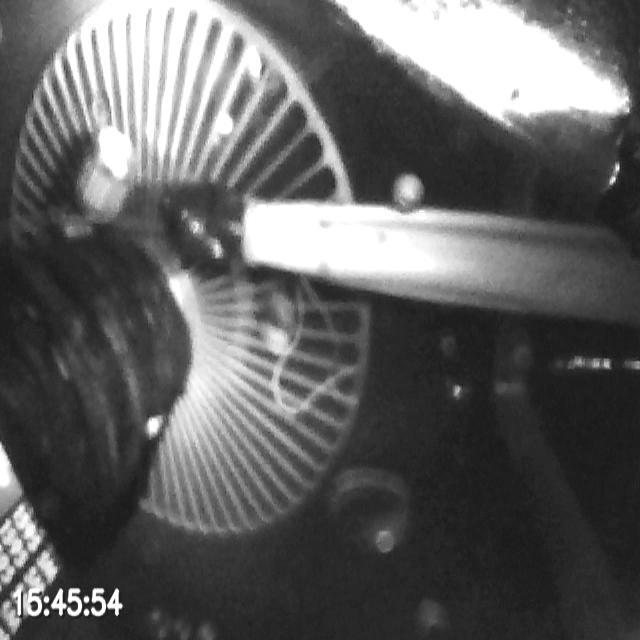head: (54, 127, 138, 234)
